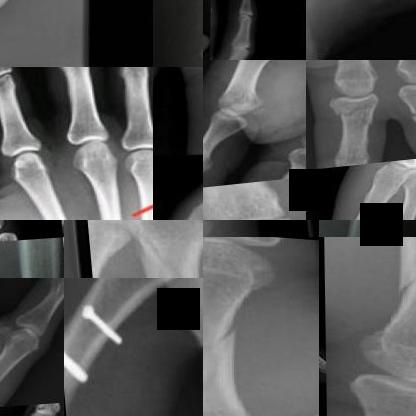fracture: (64, 282, 141, 415), (203, 307, 250, 407), (116, 246, 202, 278), (328, 93, 384, 136), (398, 97, 415, 136), (263, 60, 303, 71)
